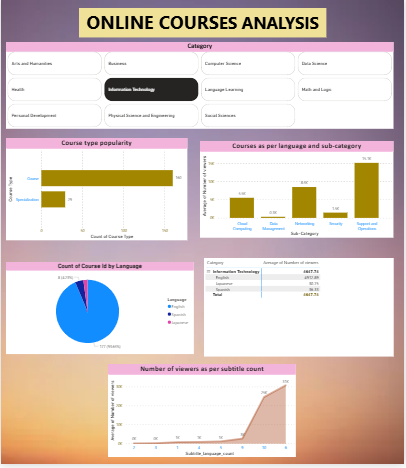

This screenshot's page, from the dashboard's own definition file:
{"tool":"powerbi","page":{"name":"Page 1","canvas":[1300,1500],"ordinal":0},"visuals":[{"type":"textbox","box":[250,27.5,797.5,95],"z":0},{"type":"barChart","title":"Course type popularity","fields":{"Category":["Online_Courses.Course Type"],"Y":["CountNonNull(Online_Courses.Course Type)"]},"box":[15.2,448.5,584.8,330.3],"z":1000},{"type":"columnChart","title":"Courses as per language and sub-category","fields":{"Y":["Avg(Online_Courses.Number of viewers)"],"Category":["Online_Courses.Language","Online_Courses.Sub-Category"]},"box":[642.4,457.6,624.2,312.1],"z":2000},{"type":"pieChart","fields":{"Category":["Online_Courses.Language"],"Y":["CountNonNull(Online_Courses.Course Id)"]},"box":[15.2,848.5,606.1,297],"z":3000},{"type":"pivotTable","fields":{"Rows":["Online_Courses.Category","Online_Courses.Language"],"Values":["Avg(Online_Courses.Number of viewers)"]},"box":[654.5,836.4,612.1,318.2],"z":4000},{"type":"advancedSlicerVisual","fields":{"Values":["Online_Courses.Category"]},"box":[15,140,1250,280],"z":5000},{"type":"lineChart","title":"Number of viewers as per subtitle count","fields":{"Category":["Online_Courses.Subtitle_language_count"],"Y":["Avg(Online_Courses.Number of viewers)"]},"box":[345.5,1178.8,606.1,300],"z":6000}]}

Visuals, with their boxes in screenshot pixels (x1, y1, x2, y2), scaled from the page's 1300x1500 canvas onto the 406x468 screenshot:
textbox: [78, 9, 327, 38]
"Course type popularity" barChart: [5, 140, 187, 243]
"Courses as per language and sub-category" columnChart: [201, 143, 396, 240]
pieChart - Online_Courses.Language x CountNonNull(Online_Courses.Course Id): [5, 265, 194, 357]
pivotTable - Online_Courses.Category x Online_Courses.Language: [204, 261, 396, 360]
advancedSlicerVisual - Online_Courses.Category: [5, 44, 395, 131]
"Number of viewers as per subtitle count" lineChart: [108, 368, 297, 461]
